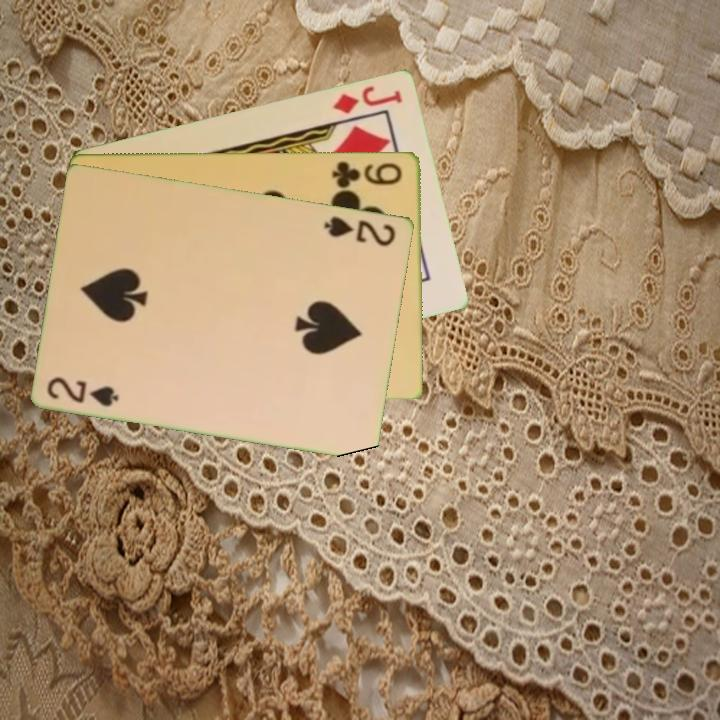2s: (321, 212, 399, 249), (44, 372, 122, 409)
9c: (328, 157, 406, 189)
Jd: (330, 81, 405, 116)
